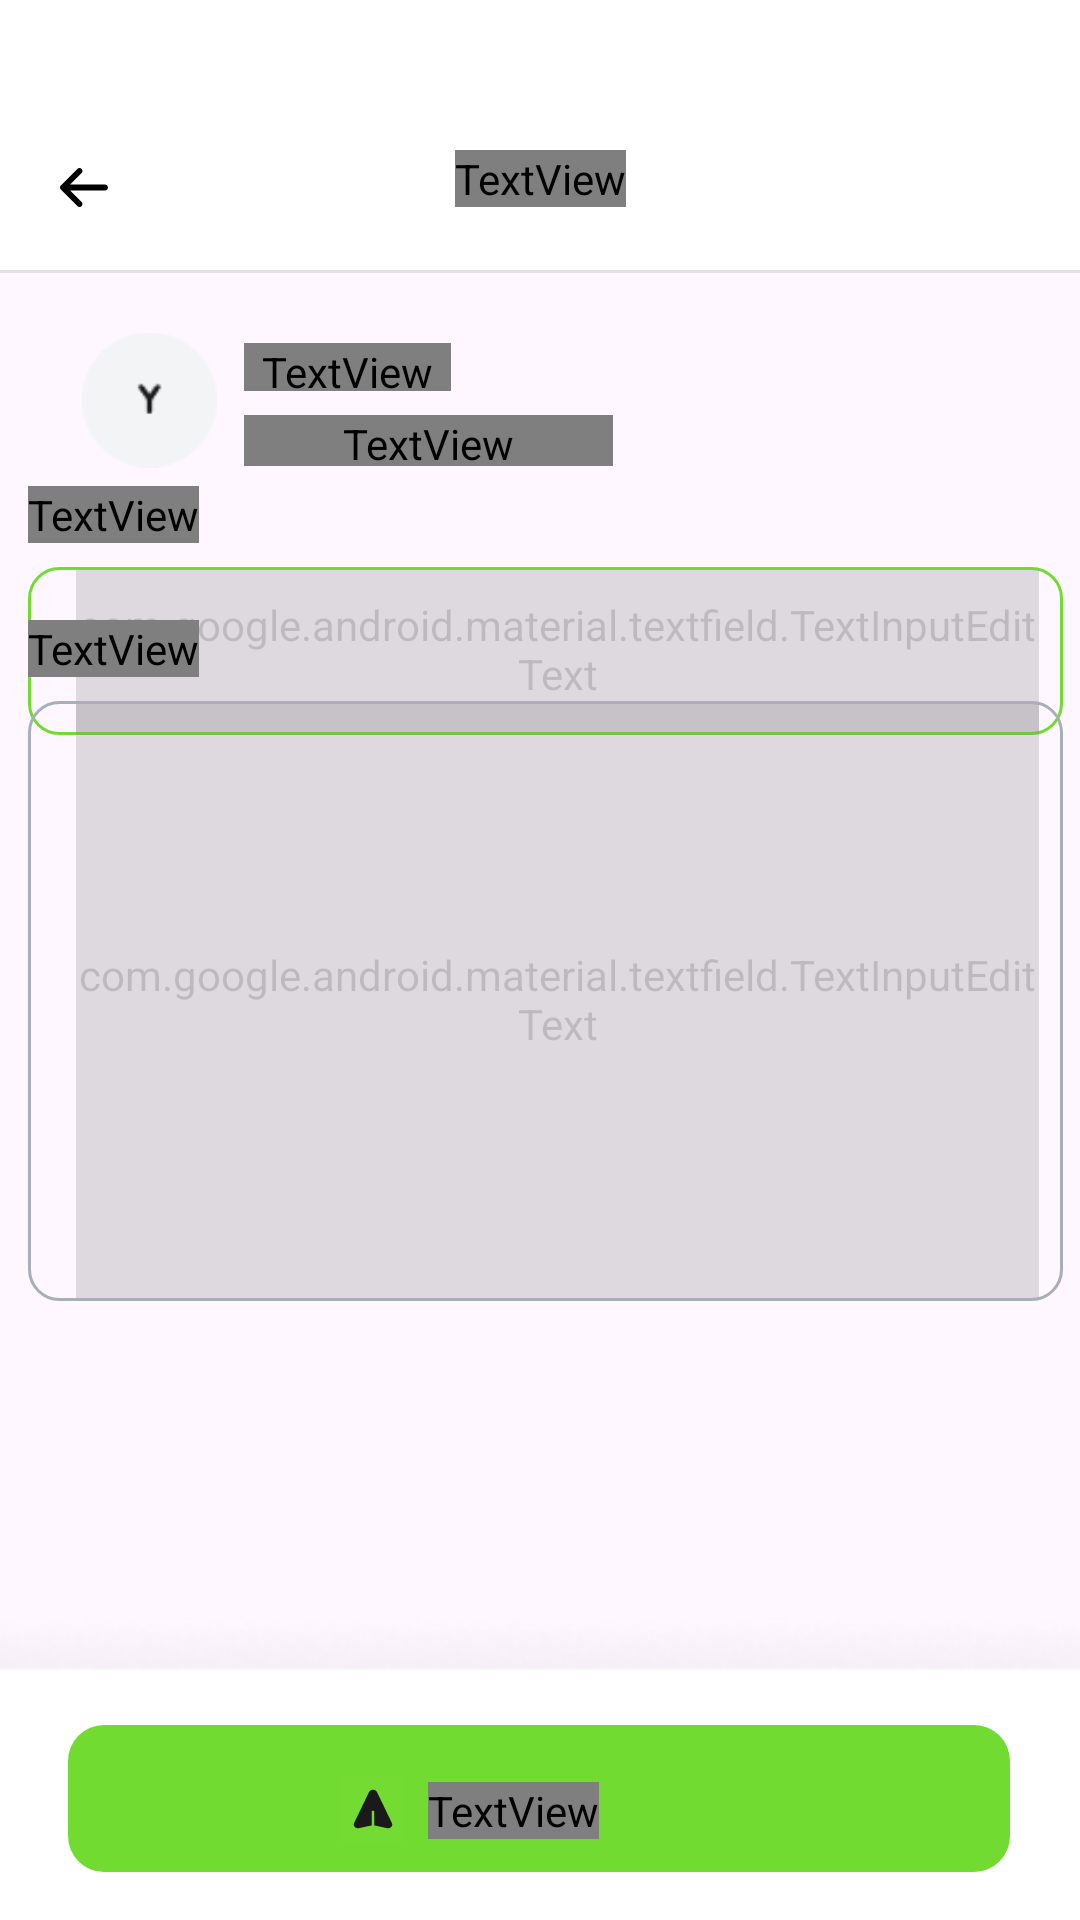

Icons on this 1080px x 1920px Android screen, each with its box as {"left": x1, "top": y1, "right": x2, "bottom": y2}:
back: {"left": 60, "top": 168, "right": 108, "bottom": 207}
send: {"left": 353, "top": 1789, "right": 393, "bottom": 1829}
